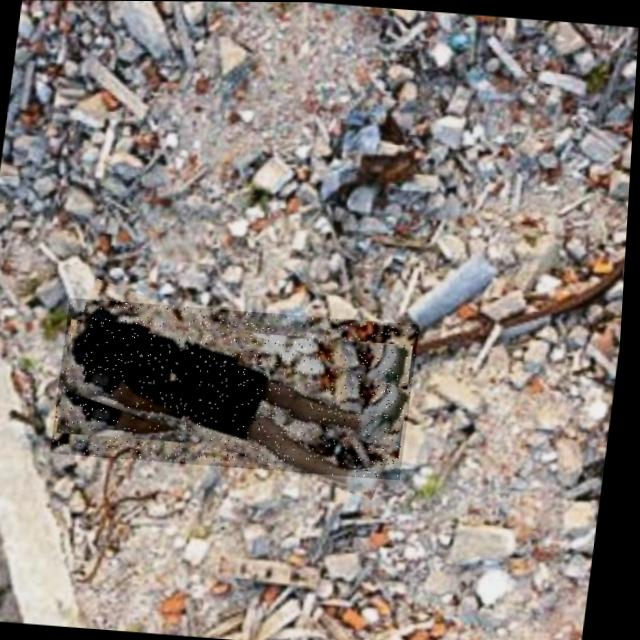Person in Rubble: (54, 296, 425, 479)
